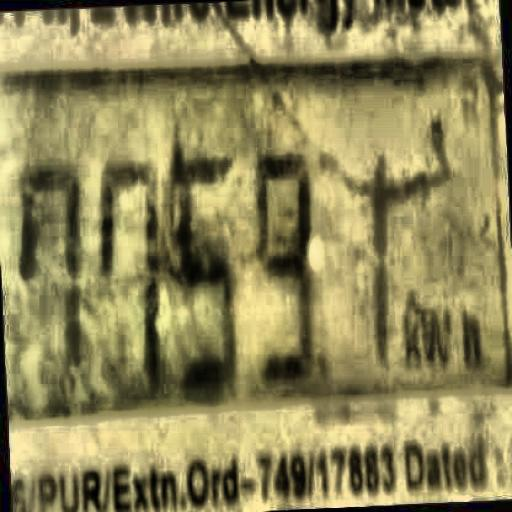DISPLAY_REGION: (0, 28, 511, 428)
SERIAL_REGION: (10, 131, 504, 395)
